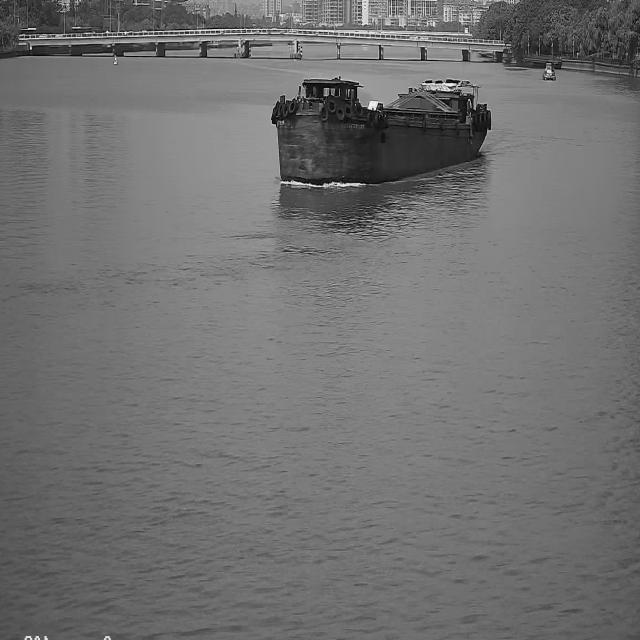ship: (272, 74, 492, 182), (544, 61, 556, 80)
